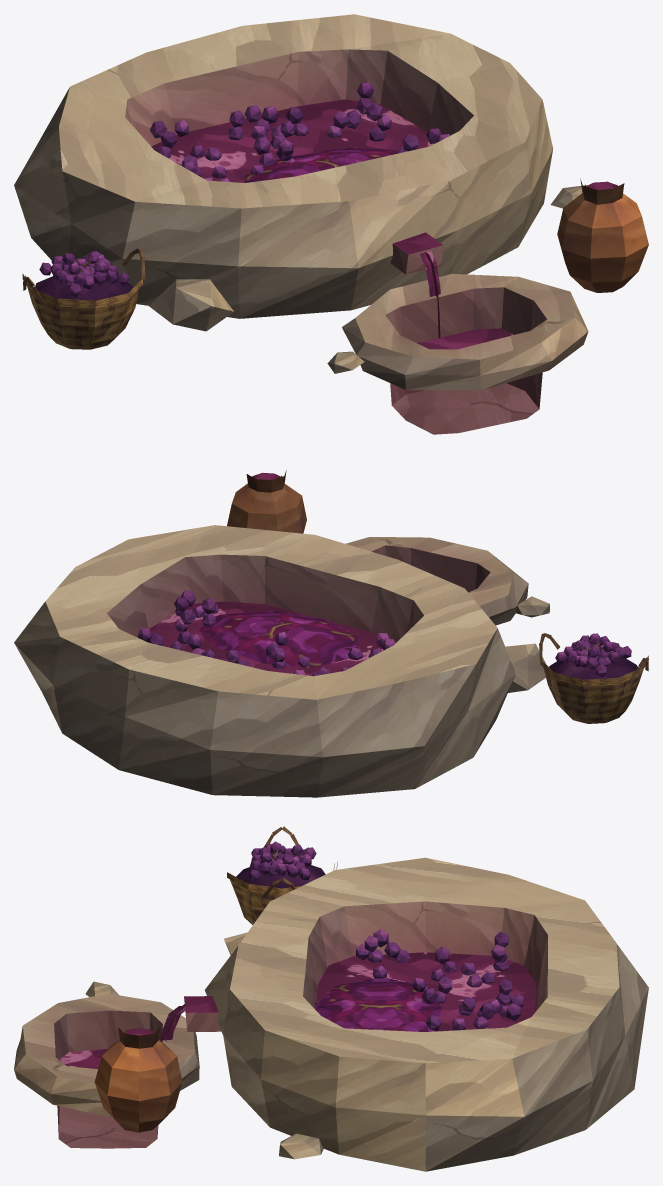
The model's file is lagar.glb.
3 renders of one model, top to bottom at view 1: azimuth 30°, elevation 25°; view 2: azimuth 150°, elevation 25°; view 3: azimuth 270°, elevation 25°, orthographic. The views are drawn at different scales.
Parts seen in each view (by area): view 1: Lagar_Rocha, Lagar_CestoUvas, Lagar_SucoTanque, Lagar_Jarro, Lagar_Bagaco, Lagar_Uvas_2, Lagar_Uvas_3, Lagar_Uvas_1, Lagar_SucoColeta, Lagar_Uvas_6, Lagar_Fio; view 2: Lagar_Rocha, Lagar_CestoUvas, Lagar_Bagaco, Lagar_Jarro, Lagar_SucoTanque, Lagar_Uvas_3, Lagar_Uvas_5, Lagar_Uvas_6; view 3: Lagar_Rocha, Lagar_SucoTanque, Lagar_Jarro, Lagar_Bagaco, Lagar_CestoUvas, Lagar_Uvas_1, Lagar_Uvas_2, Lagar_Uvas_4, Lagar_Uvas_6, Lagar_SucoColeta.
Boxes of the visible parts, <box> form: Lagar_Rocha: <box>14,14,588,434</box>; Lagar_CestoUvas: <box>22,248,145,349</box>; Lagar_SucoTanque: <box>151,99,434,182</box>; Lagar_Jarro: <box>557,178,648,292</box>; Lagar_Bagaco: <box>244,147,397,182</box>; Lagar_Uvas_2: <box>228,105,308,149</box>; Lagar_Uvas_3: <box>326,82,391,141</box>; Lagar_Uvas_1: <box>150,119,226,178</box>; Lagar_SucoColeta: <box>417,328,513,349</box>; Lagar_Uvas_6: <box>251,136,295,174</box>; Lagar_Fio: <box>419,250,440,338</box>; Lagar_Rocha: <box>14,525,549,797</box>; Lagar_CestoUvas: <box>539,633,648,723</box>; Lagar_Bagaco: <box>198,611,357,667</box>; Lagar_Jarro: <box>227,470,306,533</box>; Lagar_SucoTanque: <box>148,601,396,675</box>; Lagar_Uvas_3: <box>137,609,203,655</box>; Lagar_Uvas_5: <box>174,590,218,625</box>; Lagar_Uvas_6: <box>266,632,310,668</box>; Lagar_Rocha: <box>14,857,648,1171</box>; Lagar_SucoTanque: <box>316,952,536,1031</box>; Lagar_Jarro: <box>94,1027,182,1132</box>; Lagar_Bagaco: <box>315,978,441,1031</box>; Lagar_CestoUvas: <box>227,826,337,924</box>; Lagar_Uvas_1: <box>431,931,508,987</box>; Lagar_Uvas_2: <box>459,979,523,1028</box>; Lagar_Uvas_4: <box>356,929,410,978</box>; Lagar_Uvas_6: <box>412,976,452,1003</box>; Lagar_SucoColeta: <box>59,1048,107,1068</box>.
Bounding box in the file's own units: 3.55 × 1.03 × 3.54.
1 material, 1 textured.
